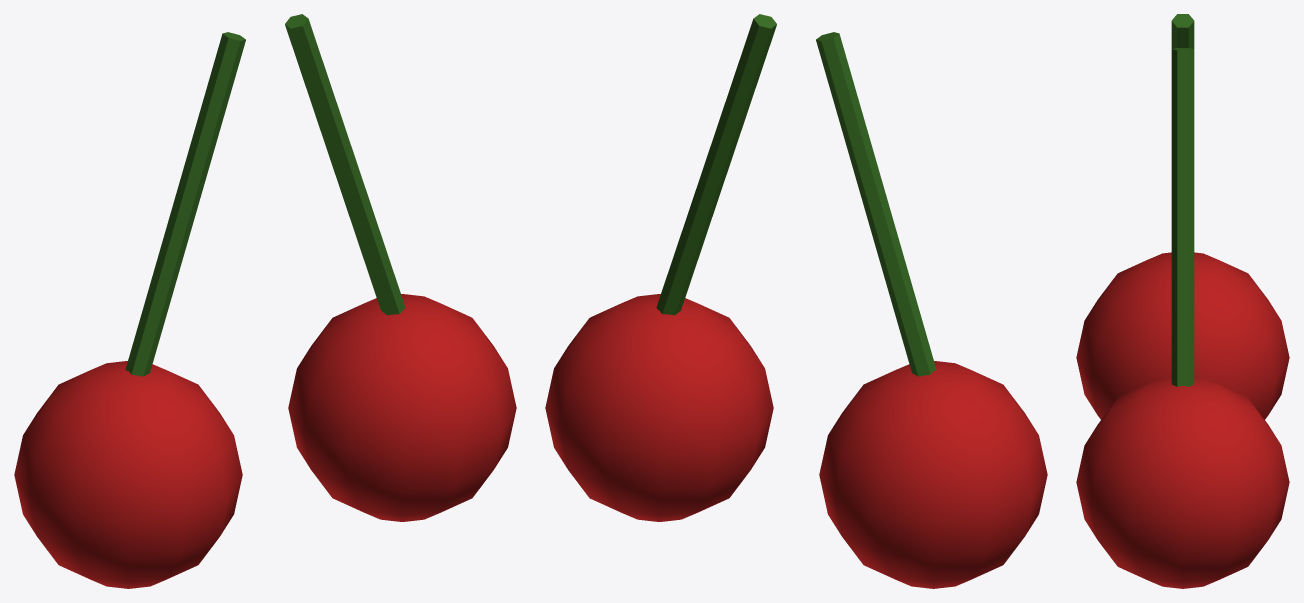
The model's file is Cherries.fbx.
3 renders of one model, left to right at view 1: azimuth 30°, elevation 25°; view 2: azimuth 150°, elevation 25°; view 3: azimuth 270°, elevation 25°, orthographic. The views are drawn at different scales.
Parts seen in each view (by area): view 1: Cherries; view 2: Cherries; view 3: Cherries.
Part boxes in pixels (box(x1,y1,x2,y2)): Cherries: box(14, 14, 516, 588); Cherries: box(545, 14, 1047, 588); Cherries: box(1076, 14, 1289, 588).
Size of the model in its own units: 0.062 by 0.0652 by 0.026.
